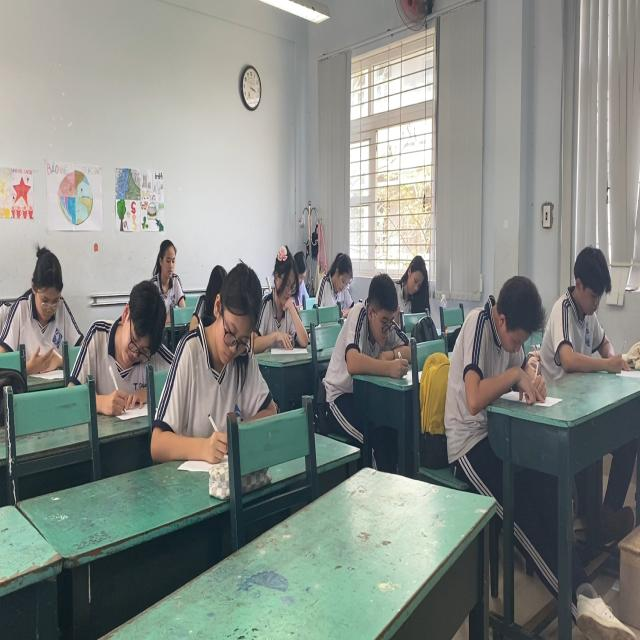not_cheating: (178, 266, 270, 448), (456, 262, 544, 418), (548, 238, 622, 379), (77, 284, 155, 390), (15, 231, 73, 367), (254, 235, 300, 345), (350, 279, 406, 366), (141, 228, 192, 314), (311, 238, 354, 311), (396, 259, 433, 311)
